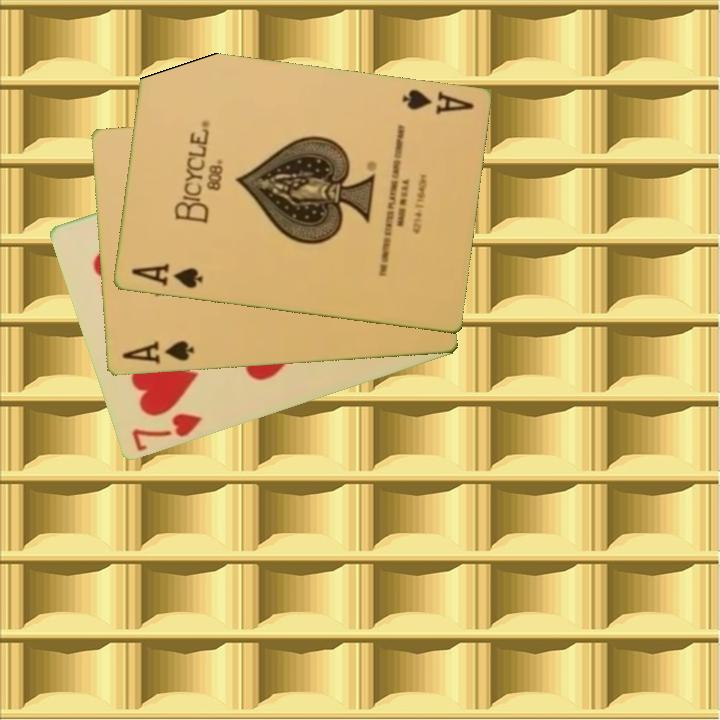7h: (128, 410, 204, 455)
As: (127, 260, 206, 292), (398, 86, 476, 118), (118, 337, 196, 367)
